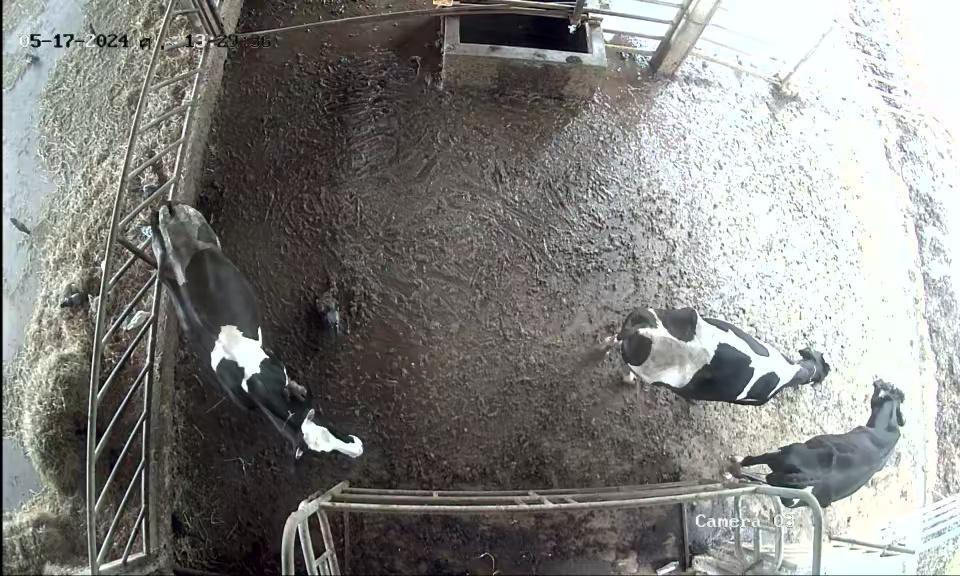stand: (140, 201, 379, 474), (583, 283, 828, 413), (746, 371, 924, 510)
